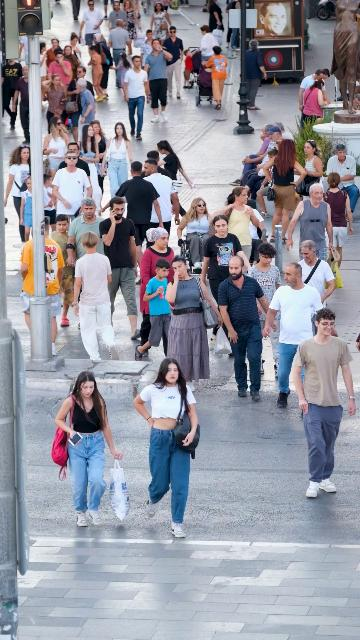person: (290, 308, 357, 499), (133, 357, 198, 539), (53, 370, 123, 527), (262, 262, 325, 408), (163, 255, 223, 393), (217, 255, 271, 401), (201, 215, 251, 354), (20, 217, 65, 356), (73, 231, 121, 361), (99, 196, 142, 340), (263, 139, 308, 244), (247, 243, 282, 377), (114, 161, 164, 250), (138, 228, 175, 348), (207, 186, 262, 263), (285, 183, 334, 267), (134, 259, 173, 362), (50, 215, 80, 328), (238, 126, 282, 201), (50, 150, 93, 225), (323, 172, 355, 266), (142, 159, 181, 235), (100, 122, 133, 211), (65, 197, 106, 267), (297, 240, 337, 310), (326, 144, 360, 226), (146, 150, 187, 218), (176, 197, 213, 271), (228, 124, 271, 186), (143, 39, 174, 123), (122, 55, 151, 140), (78, 123, 104, 213), (152, 140, 195, 190), (298, 68, 330, 126), (242, 39, 267, 111), (66, 66, 89, 142), (254, 149, 279, 218), (162, 26, 185, 100), (109, 20, 130, 96), (300, 139, 325, 202), (42, 74, 69, 132), (204, 46, 228, 111), (89, 119, 109, 195), (194, 24, 219, 76), (94, 33, 114, 98), (303, 80, 331, 124), (78, 0, 104, 46), (70, 33, 91, 89), (58, 142, 91, 177), (88, 45, 108, 102), (48, 50, 74, 91), (42, 118, 70, 156), (19, 175, 32, 244), (43, 174, 58, 232), (133, 30, 153, 69), (205, 0, 224, 41), (112, 51, 133, 88), (63, 45, 82, 81), (44, 37, 64, 71), (108, 0, 127, 32), (183, 49, 193, 89), (273, 122, 293, 140), (104, 0, 112, 19)
